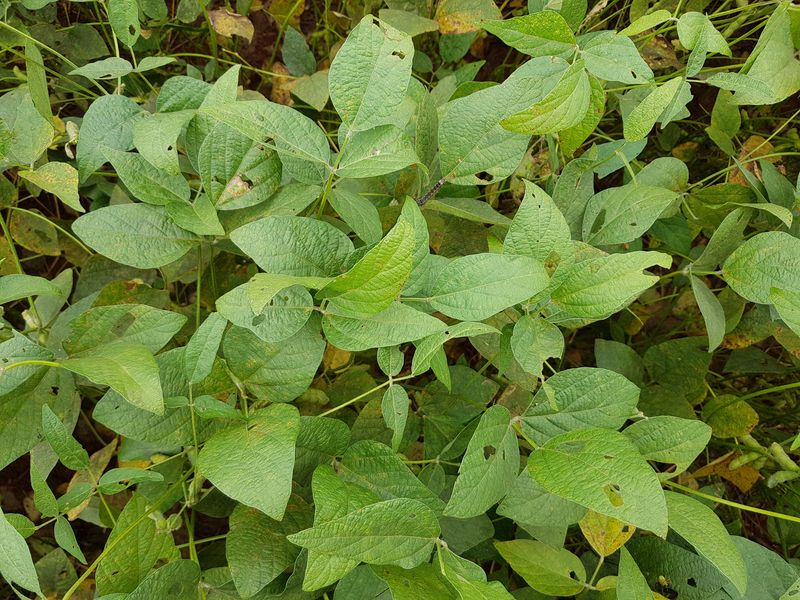Spodoptera_albula: (404, 170, 456, 214)
